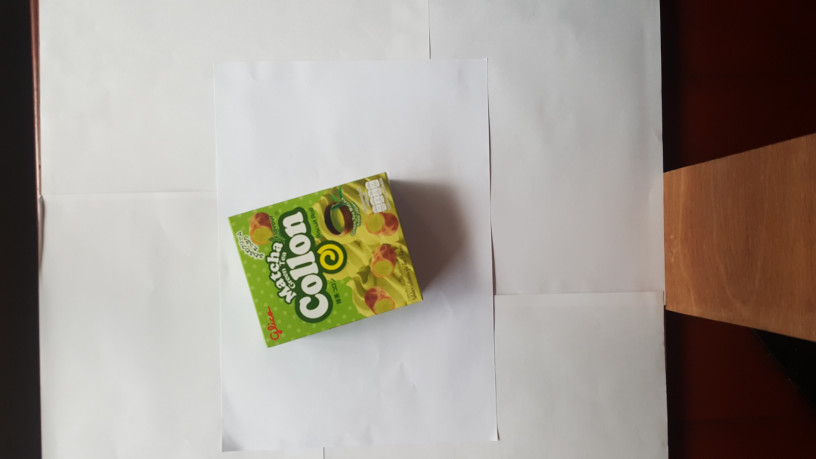collon-matcha: (228, 172, 424, 348)
